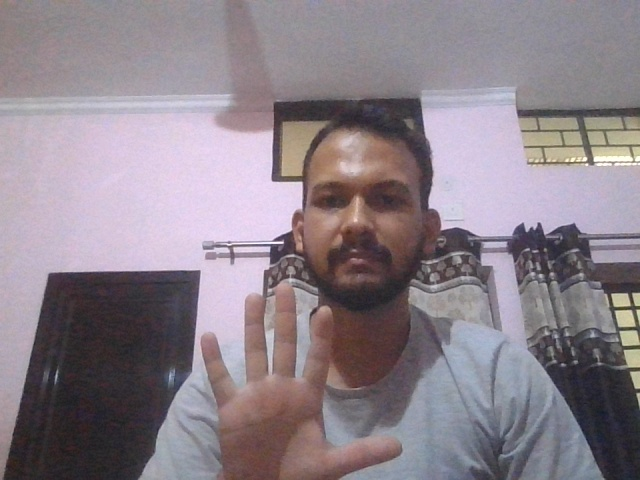hello: (200, 281, 403, 480)
